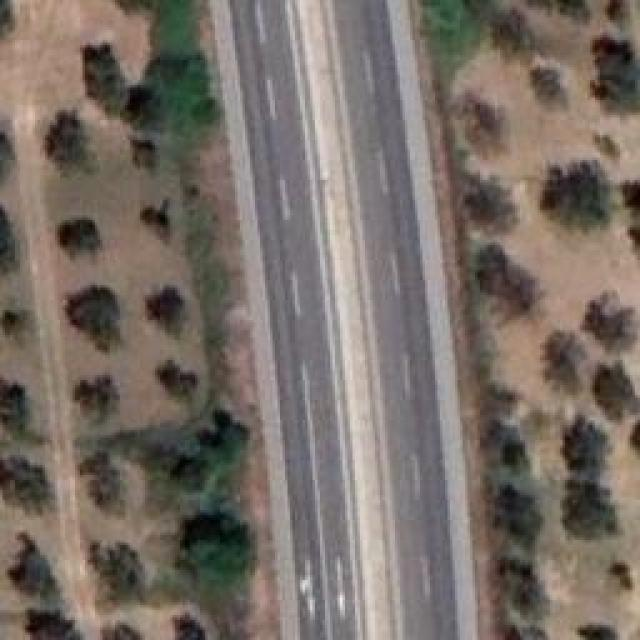Tree: (540, 160, 610, 230), (190, 525, 256, 592), (483, 245, 542, 312), (592, 40, 640, 112), (68, 285, 120, 351), (8, 533, 59, 599), (565, 478, 621, 538), (495, 483, 544, 550), (583, 293, 637, 353), (90, 543, 145, 601), (465, 173, 517, 231), (0, 455, 52, 513), (88, 45, 129, 116), (455, 90, 504, 147), (563, 417, 611, 475), (45, 110, 90, 171), (503, 557, 548, 617), (543, 330, 586, 390), (80, 454, 121, 514), (490, 7, 536, 57), (598, 363, 637, 421), (75, 375, 120, 425), (145, 285, 185, 338), (28, 610, 83, 640), (168, 455, 210, 494), (58, 220, 102, 256), (158, 360, 198, 396), (0, 380, 25, 433), (532, 68, 567, 105), (0, 208, 17, 275), (140, 200, 168, 240), (175, 615, 208, 640), (132, 140, 157, 170), (595, 135, 620, 161), (0, 133, 13, 180), (578, 625, 618, 640), (103, 625, 143, 640), (610, 563, 631, 590), (557, 0, 586, 19), (608, 0, 628, 22), (0, 310, 19, 333), (625, 180, 640, 208)
